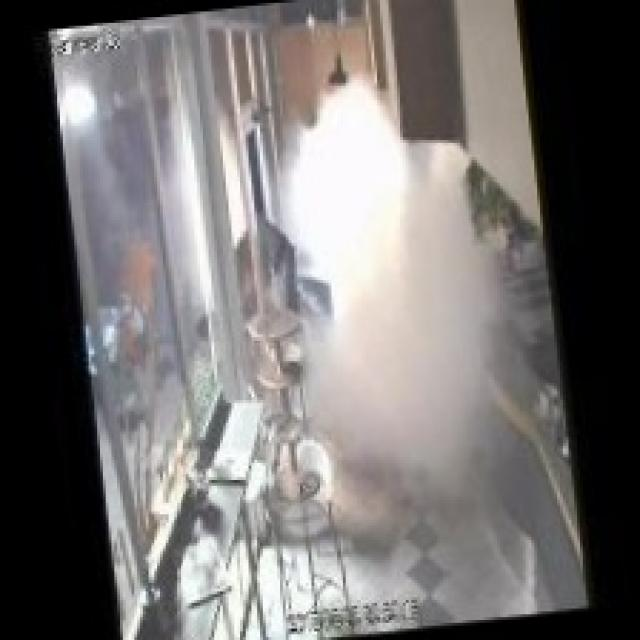smoke: (250, 47, 547, 550)
